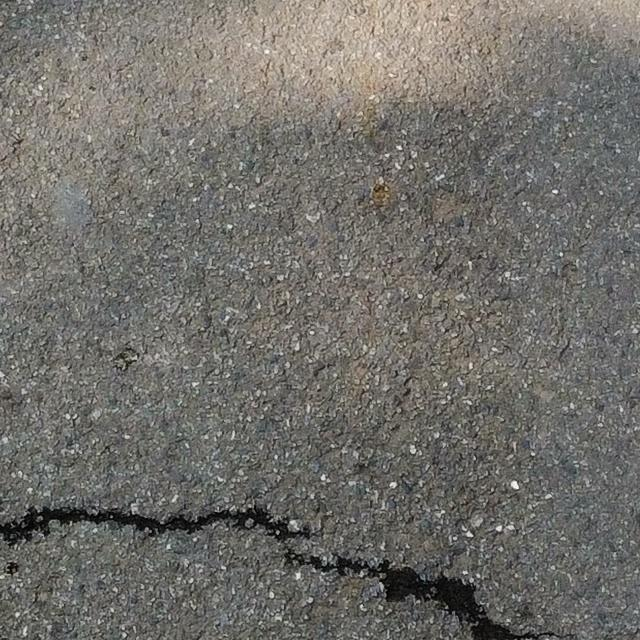TransverseCrack: (1, 507, 555, 640)
